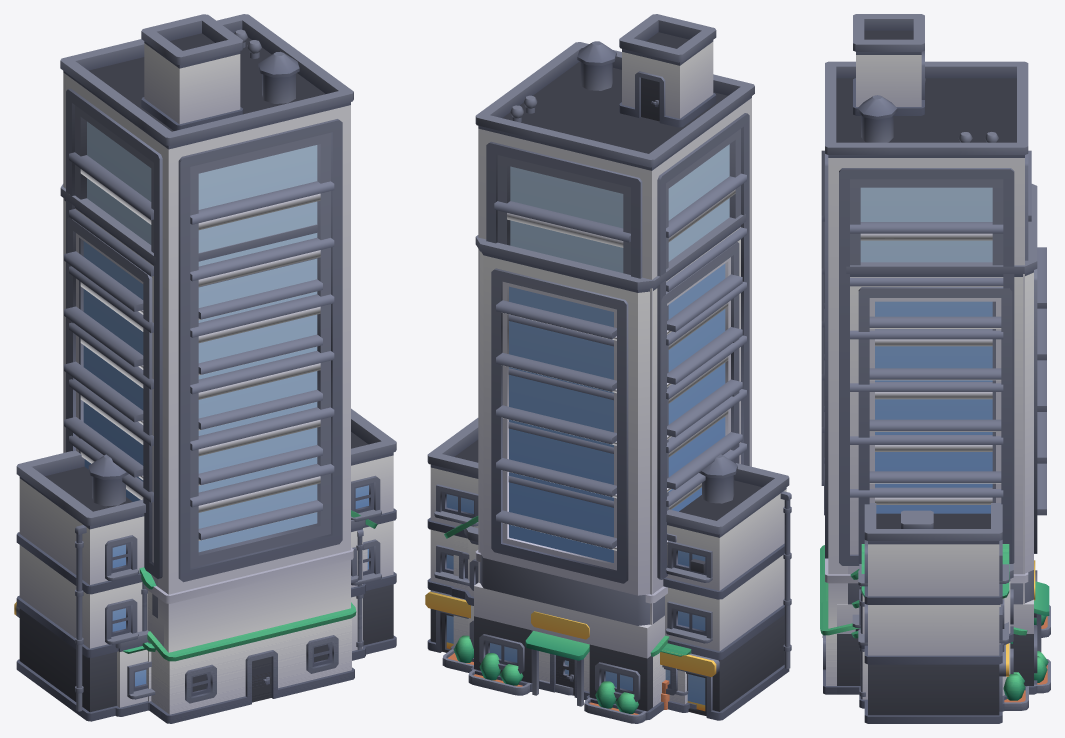
Rendered from city.glb.
The picture shows the model from 3 angles, left to right: view 1: azimuth 30°, elevation 25°; view 2: azimuth 150°, elevation 25°; view 3: azimuth 270°, elevation 25°; orthographic projection. The views are drawn at different scales.
Parts seen in each view (by area): view 1: building-skyscraper-c, building-k, building-skyscraper-a, building-type-t, building-e, building-type-b; view 2: building-skyscraper-a, building-skyscraper-c, building-k, building-type-t, building-type-b, building-e; view 3: building-skyscraper-c, building-skyscraper-a, building-k, building-type-t, building-type-b, building-e.
Part boxes in pixels (box(x1,y1,x2,y2)): building-skyscraper-c: box(60, 14, 353, 715); building-k: box(14, 408, 396, 721); building-skyscraper-a: box(60, 184, 322, 718); building-type-t: box(139, 567, 356, 723); building-e: box(114, 520, 365, 716); building-type-b: box(123, 510, 377, 653); building-skyscraper-a: box(471, 214, 745, 720); building-skyscraper-c: box(475, 14, 754, 709); building-k: box(425, 418, 791, 720); building-type-t: box(468, 635, 669, 723); building-type-b: box(442, 516, 691, 712); building-e: box(464, 526, 696, 709); building-skyscraper-c: box(821, 14, 1049, 687); building-skyscraper-a: box(824, 184, 1046, 694); building-k: box(858, 503, 1009, 723); building-type-t: box(820, 545, 1050, 694); building-type-b: box(859, 544, 1028, 711); building-e: box(852, 564, 1013, 708).
Bounding box in the file's own units: 2.08 × 4.08 × 1.41.
2 materials, 2 textured.
